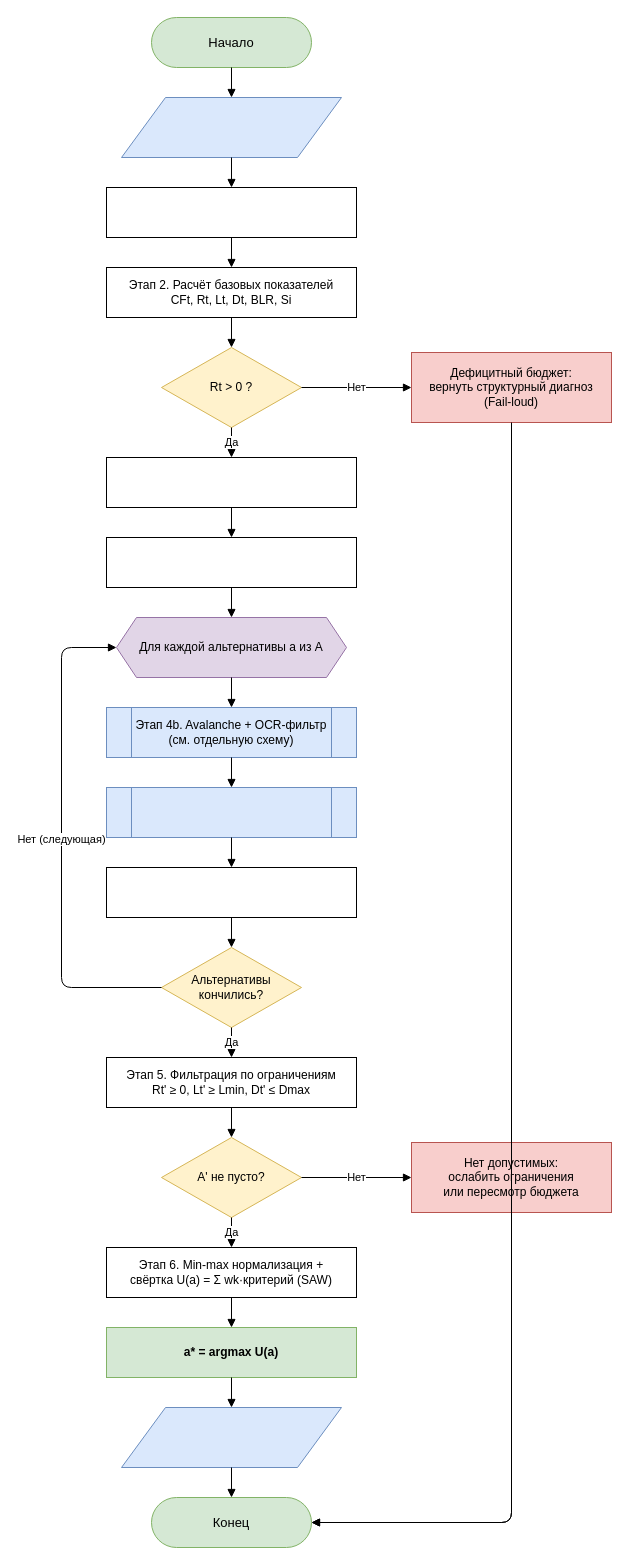
Image size: 629x1565. Some labels were removed from this diagram. The shapes that lost their labels are listed below. From the top down, each one's centre as x and y in pixels, then its label:
At point (231, 127): "Ввод: транзакции It, Ej, обязательства O, цели G, ликвидность Bliq, профиль R".
At point (231, 212): "Этап 1. Предобработка данных (нормализация, фильтр активных целей)".
At point (231, 482): "Этап 4.0. Разовое закрытие близких целей из Bliq (если Σ_близкие ≤ 0.5·Bliq)".
At point (231, 562): "Этап 4. Генерация 66 альтернатив stars-and-bars, шаг 10%".
At point (231, 812): "Взвешенная обеспеченность Si (см. отдельную схему)".
At point (231, 892): "Пересчёт Rt', Lt', Dt' для альтернативы".
At point (231, 1437): "Вывод: a*, top-3 + объяснения".
